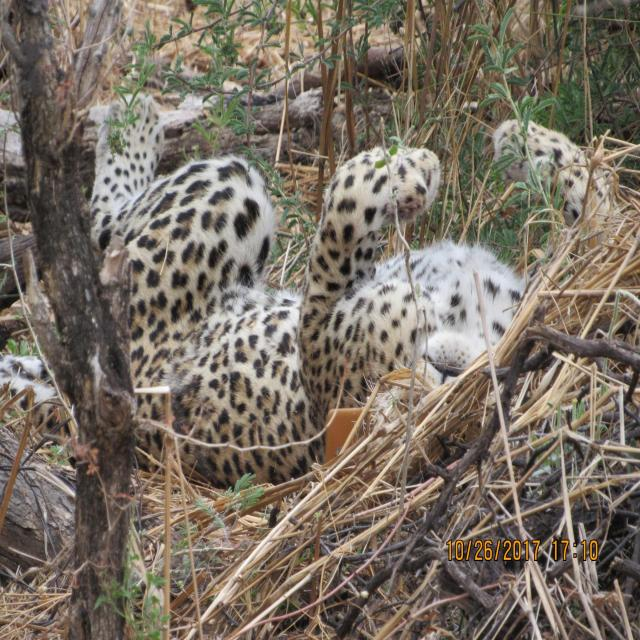Leopard: (1, 66, 627, 494)
